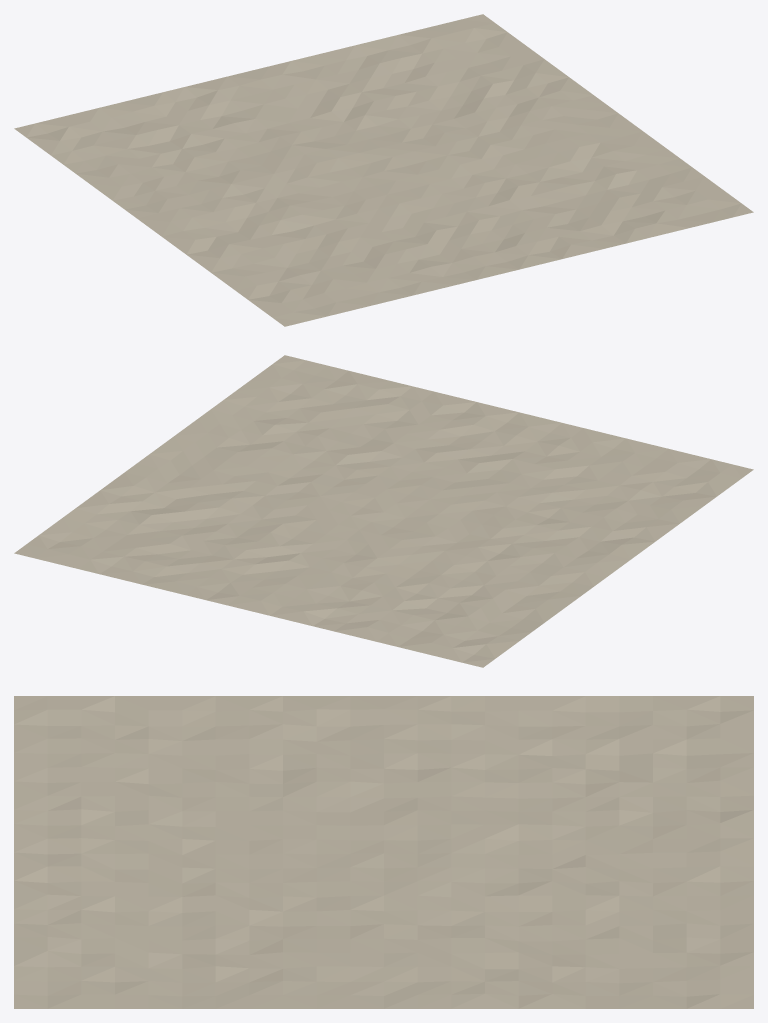
File: Ground_s_01.fbx
3 views of the same model, one above another, from view 1: azimuth 30°, elevation 25°; view 2: azimuth 150°, elevation 25°; view 3: azimuth 270°, elevation 25° (orthographic). The views are drawn at different scales.
Visible parts, largest first — view 1: Ground_s_01; view 2: Ground_s_01; view 3: Ground_s_01.
Boxes of the visible parts, box(x1,y1,x2,y2) form: Ground_s_01: box(14, 14, 753, 326); Ground_s_01: box(14, 355, 753, 667); Ground_s_01: box(14, 696, 753, 1008).
Bounding box in the file's own units: 5000 × 35.46 × 5000.
